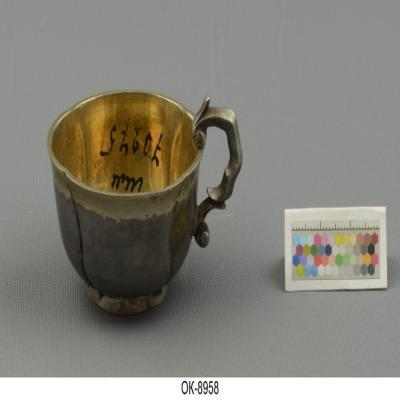dpi: (46, 91, 242, 317)
